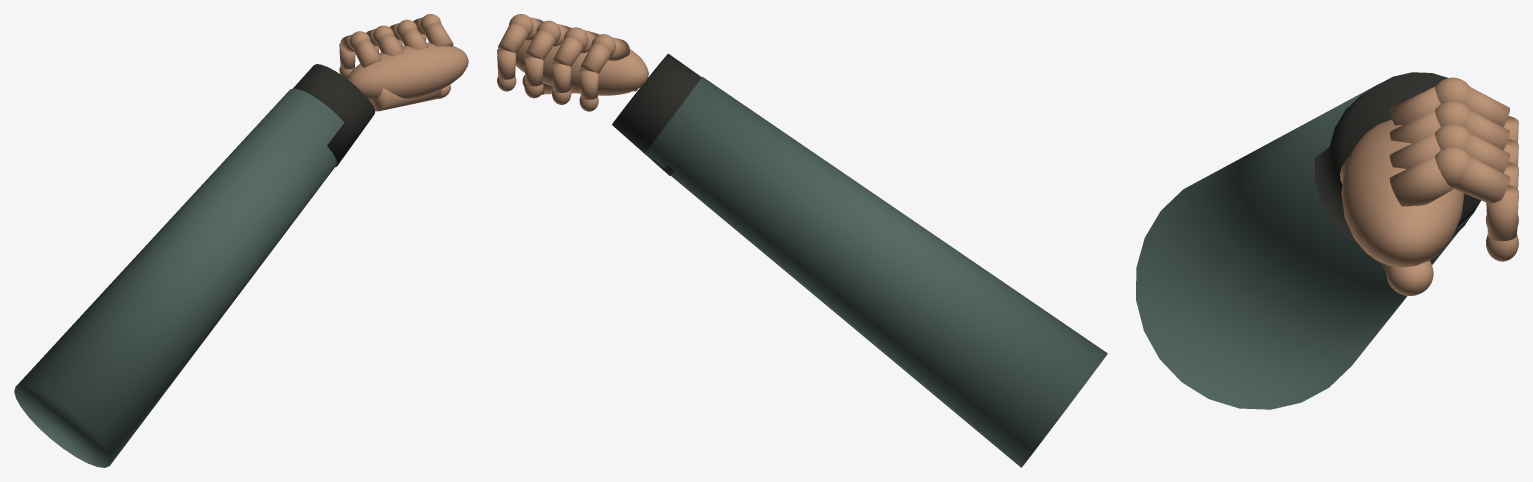
The model's file is SM_LeftArm.fbx.
The picture shows the model from 3 angles, left to right: view 1: azimuth 30°, elevation 25°; view 2: azimuth 150°, elevation 25°; view 3: azimuth 270°, elevation 25°; orthographic projection. The views are drawn at different scales.
Visible parts, largest first — view 1: SM_LeftArm; view 2: SM_LeftArm; view 3: SM_LeftArm.
Part boxes in pixels (x1,y1,x2,y2): SM_LeftArm: [14, 14, 468, 467]; SM_LeftArm: [497, 14, 1107, 467]; SM_LeftArm: [1136, 72, 1518, 409].
Size of the model in its own units: 45.98 by 16.17 by 29.85.
